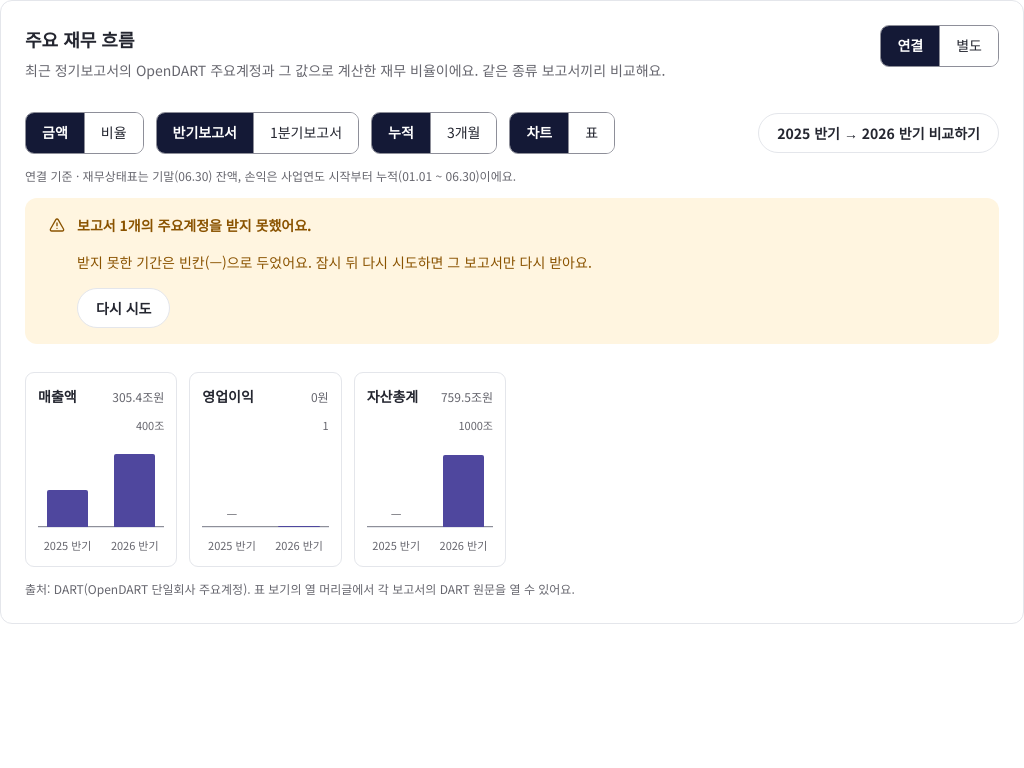
주요 재무 흐름 › 보고서 종류를 바꾸면 그 종류끼리 보이고 직전 연도 보고서가 없으면 비교 링크를 숨긴다
The width and height of the screenshot is (1024, 768).
Expected: the element named "비교할 보고서 종류" is shown, [156,112,359,154]
Click the button "1분기보고서".
click(306, 133)  # box [253,113,358,153]
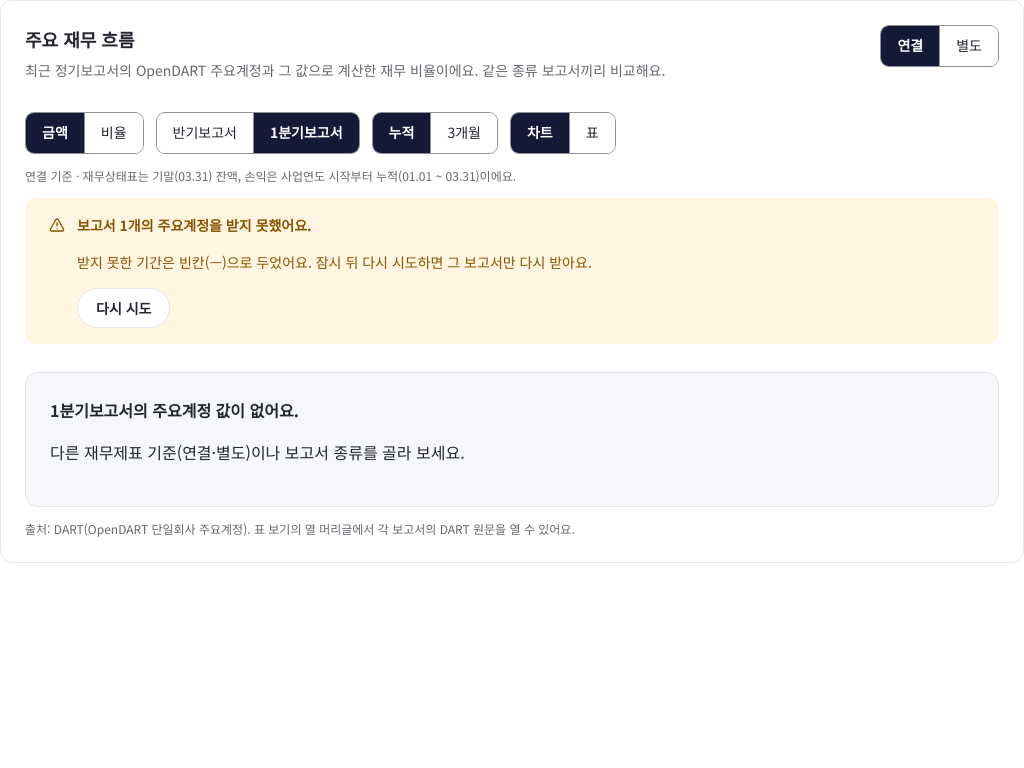
Expected: the text "1분기보고서의 주요계정 값이 없어요." is shown, [50,398,299,422]
Expected: the link "2025 반기 → 2026 반기 비교하기" is gone
